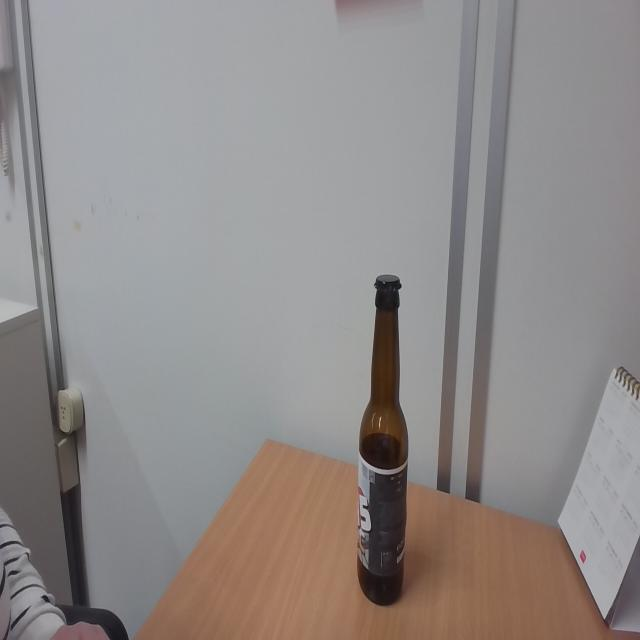Bottle: (356, 272, 409, 606)
Cap: (373, 273, 403, 295)
Label: (358, 454, 405, 575)
